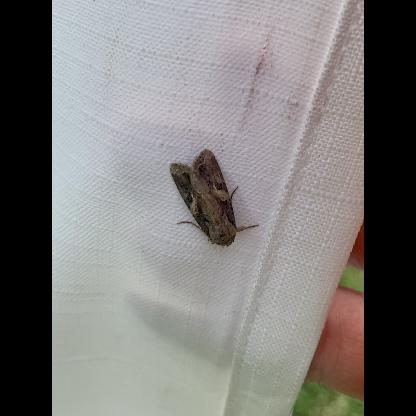Fall Armyworm Moth: (168, 147, 260, 249)
